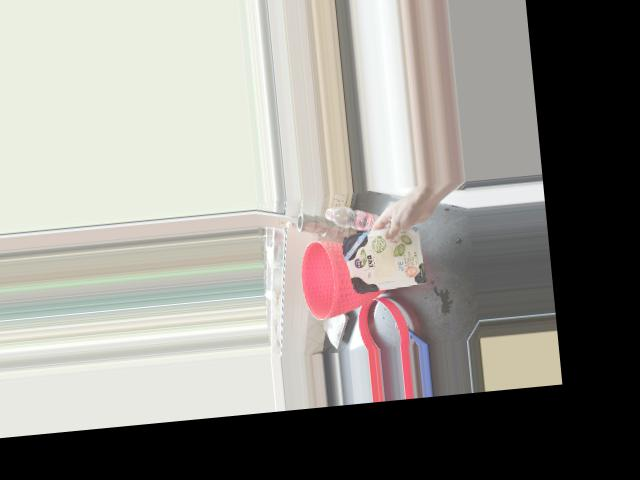cheese: (338, 211, 420, 294)
